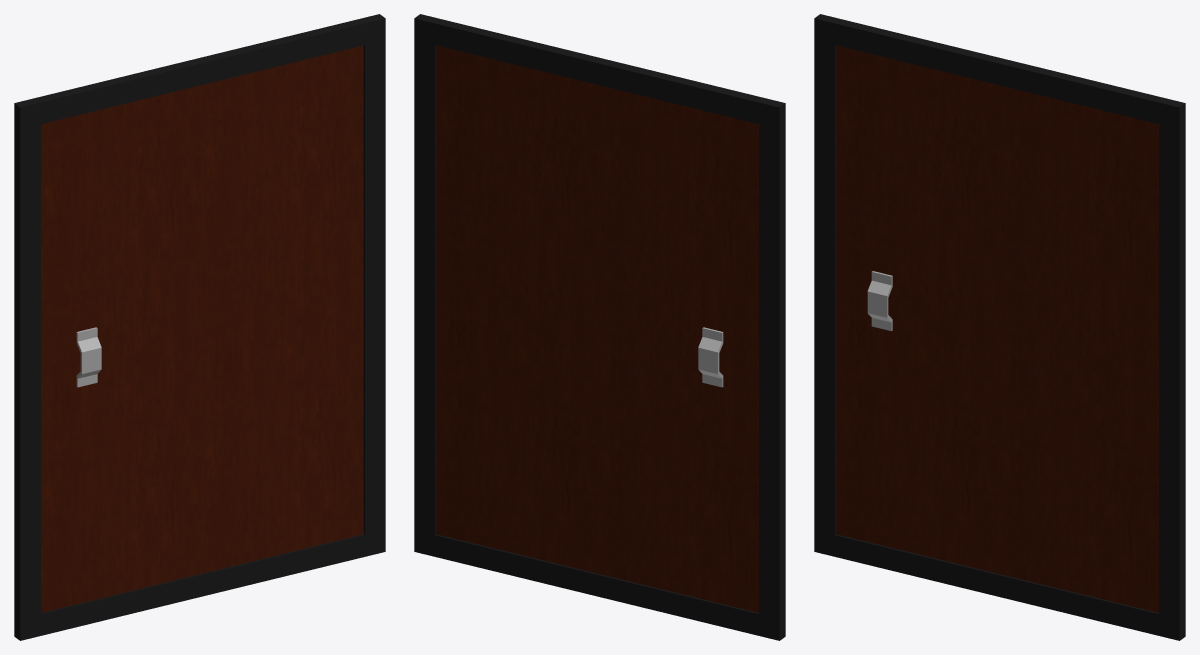
The model's file is GarageDoors.fbx.
3 renders of one model, left to right at view 1: azimuth 30°, elevation 25°; view 2: azimuth 150°, elevation 25°; view 3: azimuth 330°, elevation 25°, orthographic.
Parts seen in each view (by area): view 1: GarageDoorRight, GarageDoorHandleOutside; view 2: GarageDoorRight, GarageDoorHandleInside; view 3: GarageDoorRight, GarageDoorHandleOutside.
Part boxes in pixels (bbox=[...]): GarageDoorRight: bbox=[14, 14, 385, 640]; GarageDoorHandleOutside: bbox=[76, 327, 101, 387]; GarageDoorRight: bbox=[414, 14, 785, 640]; GarageDoorHandleInside: bbox=[698, 327, 723, 387]; GarageDoorRight: bbox=[814, 14, 1185, 640]; GarageDoorHandleOutside: bbox=[867, 271, 892, 331].
Bounding box in the file's own units: 176 × 245 × 12.07.
